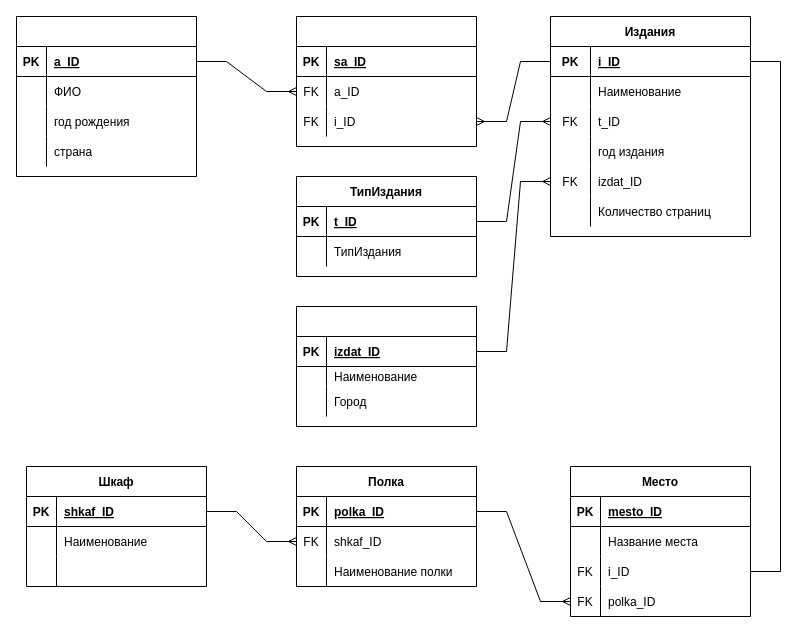
Image size: 797x633. Some labels were removed from this diagram. Each missing label, with the box of its shape:
Авторы: (16, 16, 196, 176)
Издательство: (296, 306, 476, 426)
Список Авторов: (296, 16, 476, 146)
